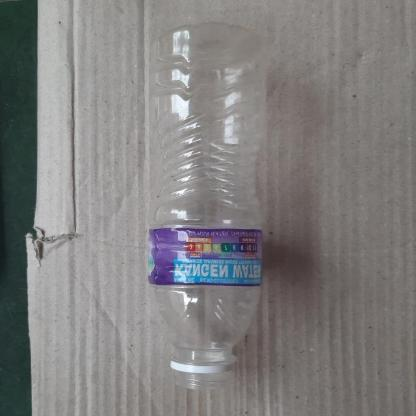Plastic Bottle: (148, 23, 268, 392)
